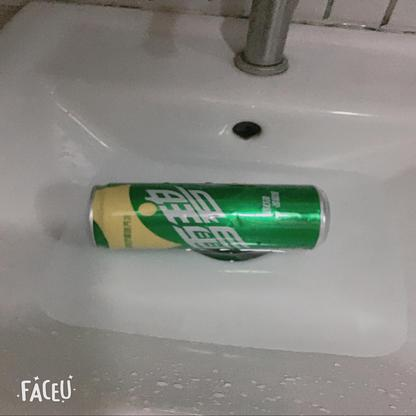can: (86, 181, 330, 253)
